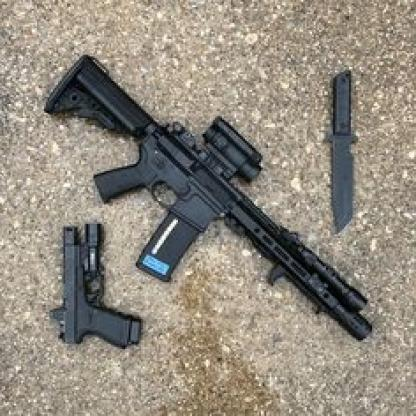Gun: (44, 53, 374, 342)
Knife: (322, 71, 360, 234)
Pistol: (49, 222, 144, 351)
